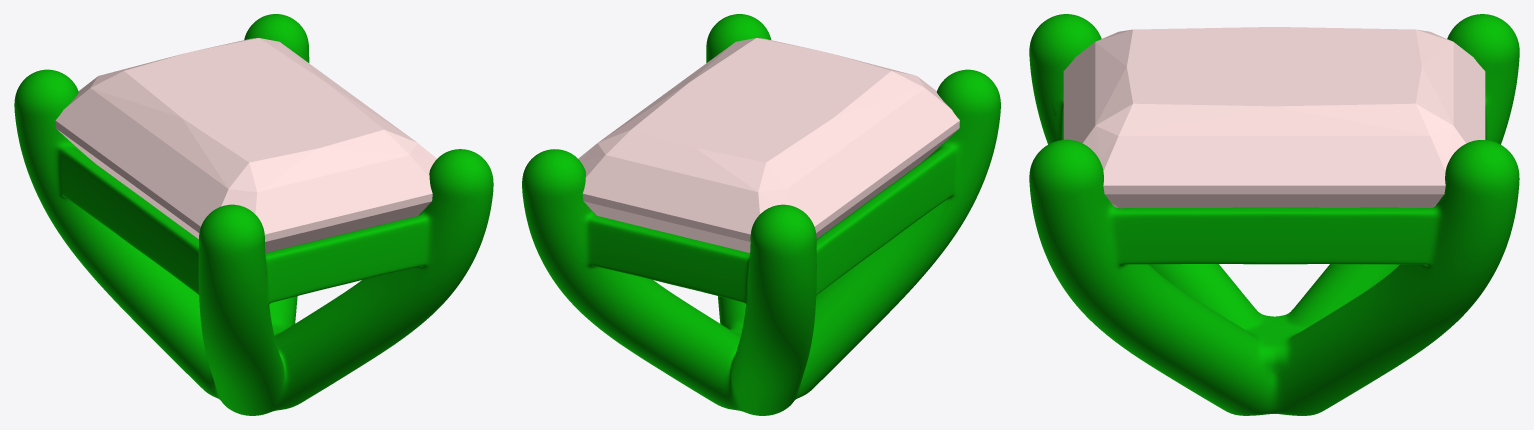
3 renders of one model, left to right at view 1: azimuth 30°, elevation 25°; view 2: azimuth 150°, elevation 25°; view 3: azimuth 270°, elevation 25°, orthographic. The views are drawn at different scales.
Visible parts, largest first — view 1: Metal01, Diamond_Radiant; view 2: Metal01, Diamond_Radiant; view 3: Metal01, Diamond_Radiant.
Part boxes in pixels (<box>): Metal01: <box>14,14,493,415</box>; Diamond_Radiant: <box>55,38,436,252</box>; Metal01: <box>522,14,1000,415</box>; Diamond_Radiant: <box>578,38,959,252</box>; Metal01: <box>1029,14,1519,415</box>; Diamond_Radiant: <box>1063,27,1485,208</box>.
Size of the model in its own units: 5.12 by 5.08 by 6.75.
